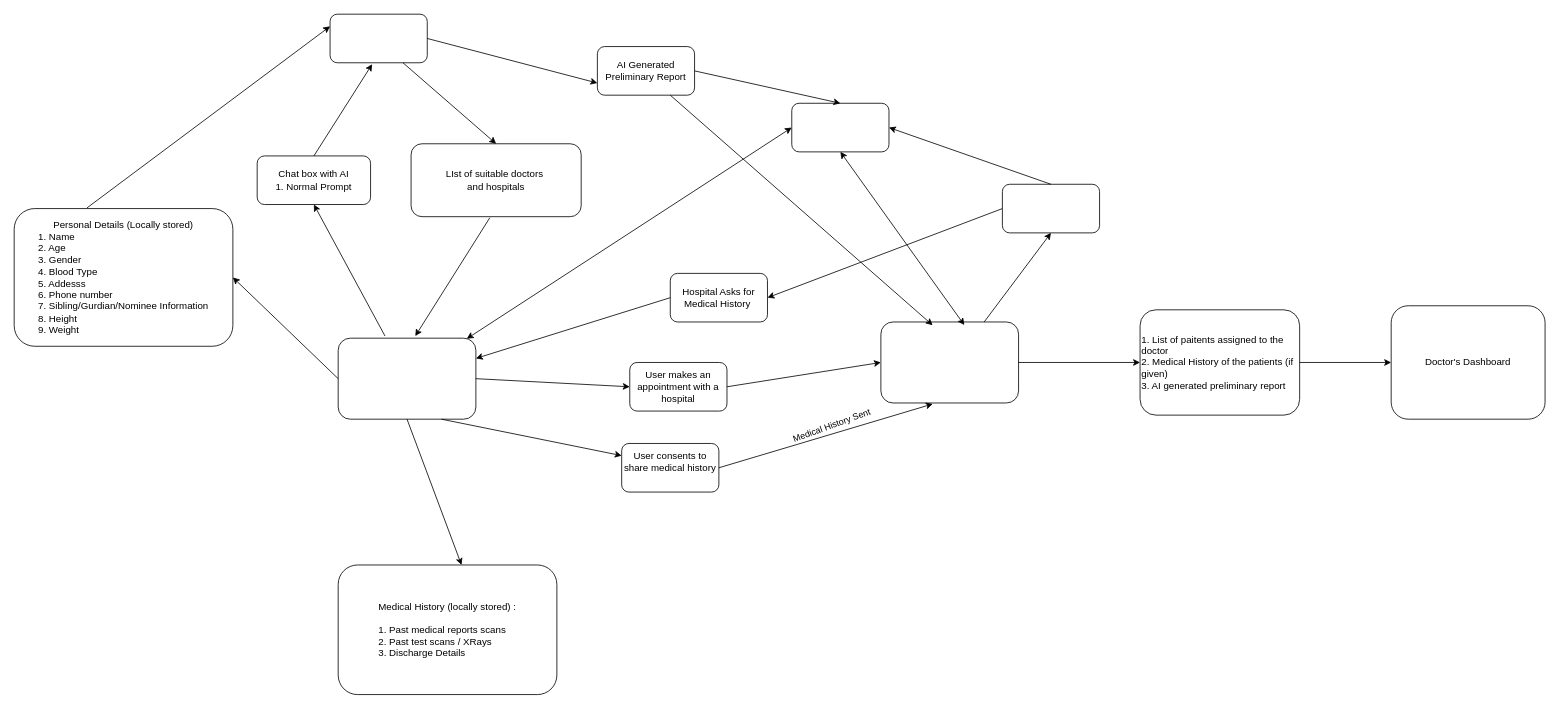
Image size: 1559x709. Some labels were removed from this diagram. The shapes that lost their labels are listed below. From the top down, each one's box as (x1, y1, x2, y2) in pixels, then its label:
(329, 13, 427, 63): RAG Pipeline
(791, 102, 889, 152): Confirmation or changes
(1002, 183, 1100, 233): Verfies Information
(337, 337, 476, 419): User's App
(880, 321, 1019, 403): Hospital admin dashboard
